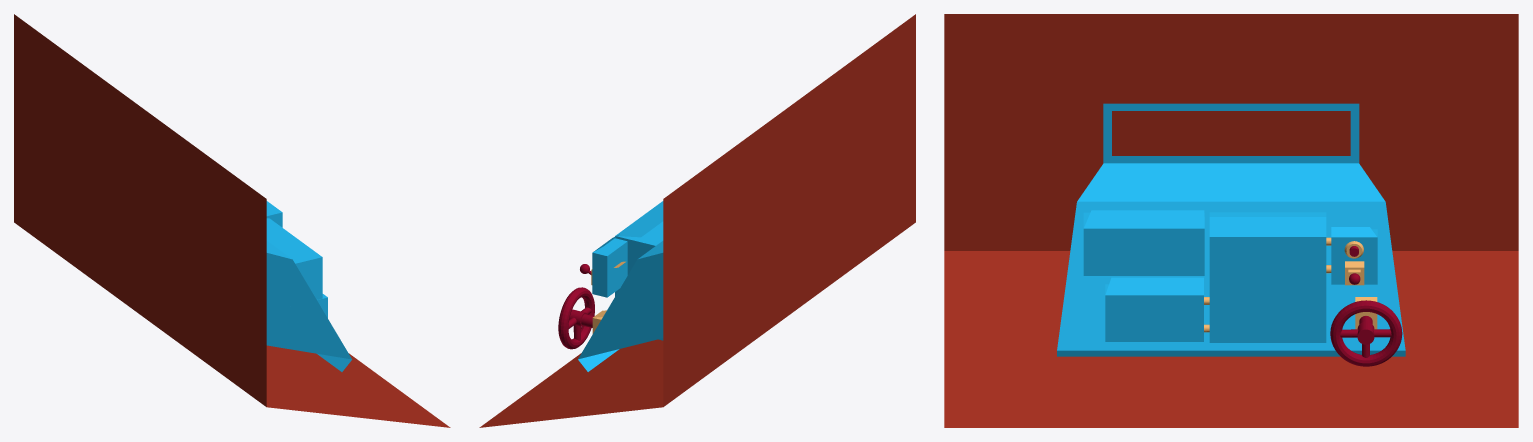
Rendered from Tablero.glb.
The picture shows the model from 3 angles, left to right: view 1: azimuth 30°, elevation 25°; view 2: azimuth 150°, elevation 25°; view 3: azimuth 270°, elevation 25°; orthographic projection. The views are drawn at different scales.
Parts seen in each view (by area): view 1: Plane, Cube, Cube.002; view 2: Plane, Cube, Cube.004, Cube.003, Torus; view 3: Plane, Cube, Cube.003, Cube.002, Cube.008, Torus, Cube.004.
Part boxes in pixels (x1=…): Plane: x1=14, y1=14, x2=450, y2=427; Cube: x1=266, y1=241, x2=351, y2=371; Cube.002: x1=266, y1=218, x2=322, y2=299; Plane: x1=479, y1=14, x2=915, y2=427; Cube: x1=578, y1=241, x2=663, y2=371; Cube.004: x1=592, y1=234, x2=627, y2=297; Cube.003: x1=615, y1=201, x2=663, y2=340; Torus: x1=558, y1=287, x2=594, y2=349; Plane: x1=944, y1=14, x2=1518, y2=427; Cube: x1=1057, y1=103, x2=1405, y2=356; Cube.003: x1=1209, y1=212, x2=1326, y2=342; Cube.002: x1=1083, y1=210, x2=1204, y2=275; Cube.008: x1=1105, y1=277, x2=1203, y2=341; Torus: x1=1330, y1=300, x2=1402, y2=366; Cube.004: x1=1331, y1=227, x2=1377, y2=284.
Bounding box in the file's own units: 12.9 × 18.32 × 30.6.
Materials: 4 (3 with a texture image).
